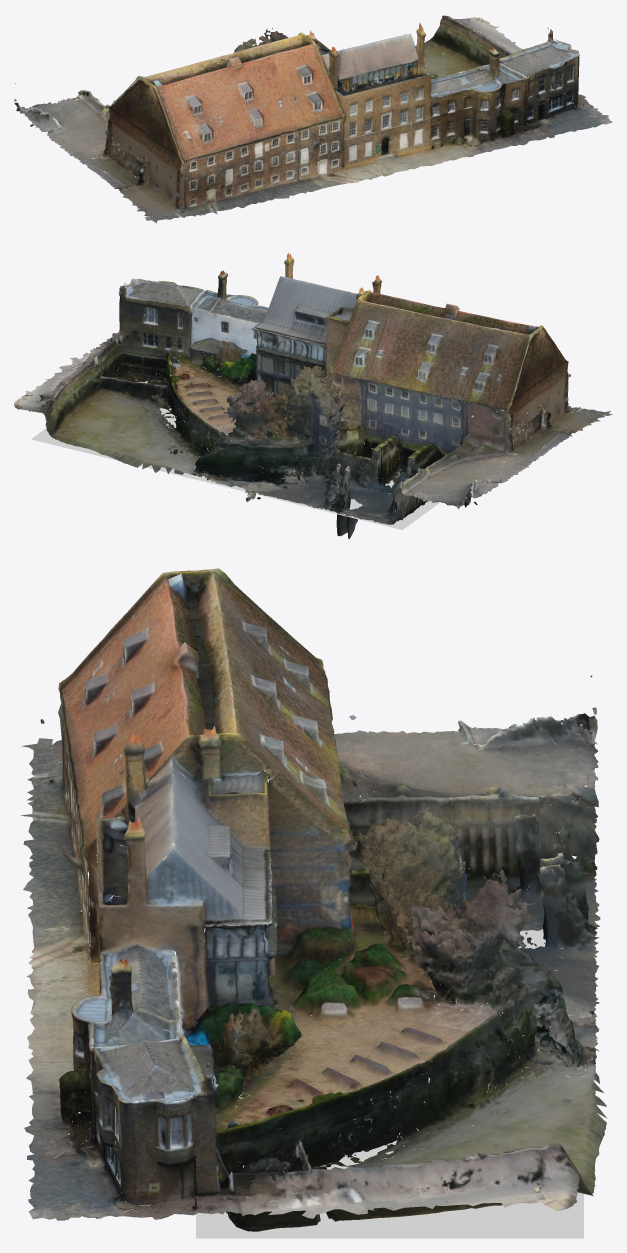
Rendered from housemill_slimmed_fix.gltf.
The picture shows the model from 3 angles, top to bottom: view 1: azimuth 30°, elevation 25°; view 2: azimuth 150°, elevation 25°; view 3: azimuth 270°, elevation 25°; orthographic projection. The views are drawn at different scales.
Parts seen in each view (by area): view 1: Housemill; view 2: Housemill, Plane; view 3: Housemill, Plane.
Boxes of the visible parts, x1,y1,x2,y2 form: Housemill: (14,15,612,223); Housemill: (14,253,612,538); Plane: (31,377,474,529); Housemill: (20,568,606,1231); Plane: (196,885,583,1238).
Size of the model in its own units: 26.87 by 9.29 by 14.47.
Materials: 1 (1 with a texture image).
